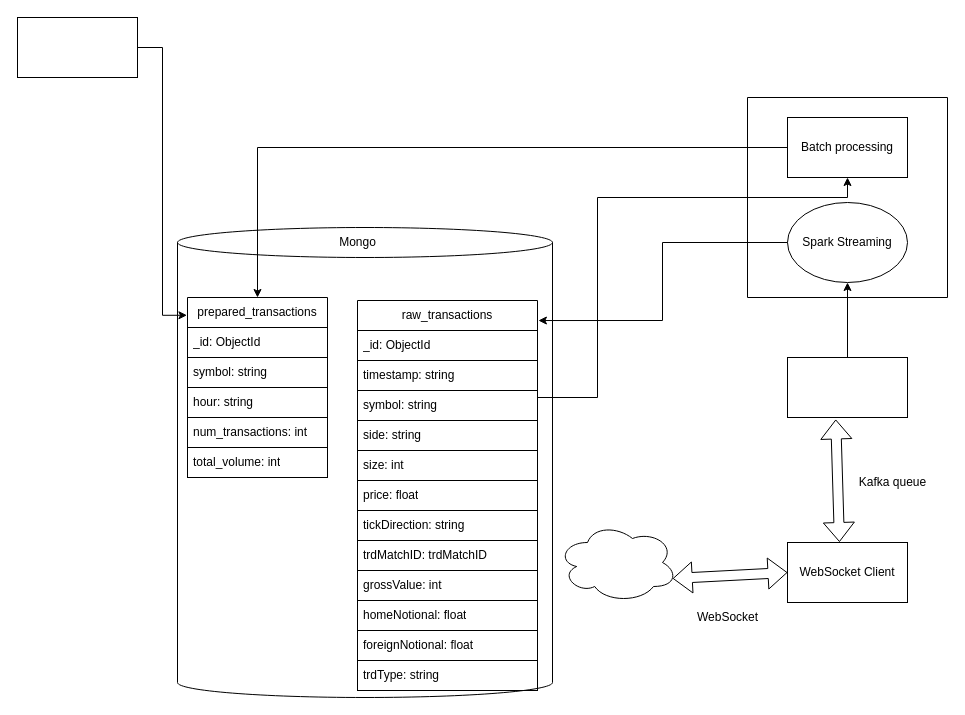
Some shapes in this 965 by 715 pixel diagram are drawn without their labels. Each missing label, with the centre of its shape:
"Bitmex API" belongs at (x=617, y=562).
"REST API" belongs at (x=77, y=47).
"Spark" belongs at (x=847, y=197).
"Stream processing" belongs at (x=847, y=387).
